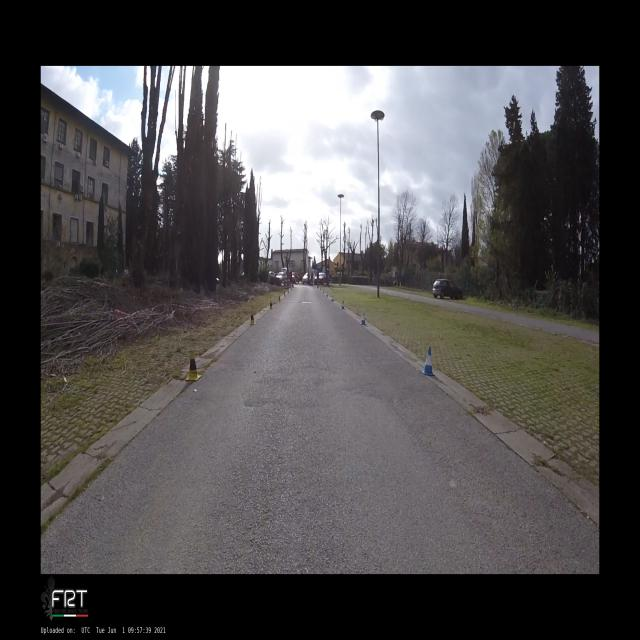blue_cone: (421, 348, 435, 376), (360, 313, 365, 325), (342, 300, 344, 309), (332, 296, 334, 301), (327, 292, 328, 297)
yellow_cone: (186, 350, 202, 380), (250, 313, 256, 325), (269, 300, 273, 308), (278, 296, 281, 302), (284, 292, 286, 297)
